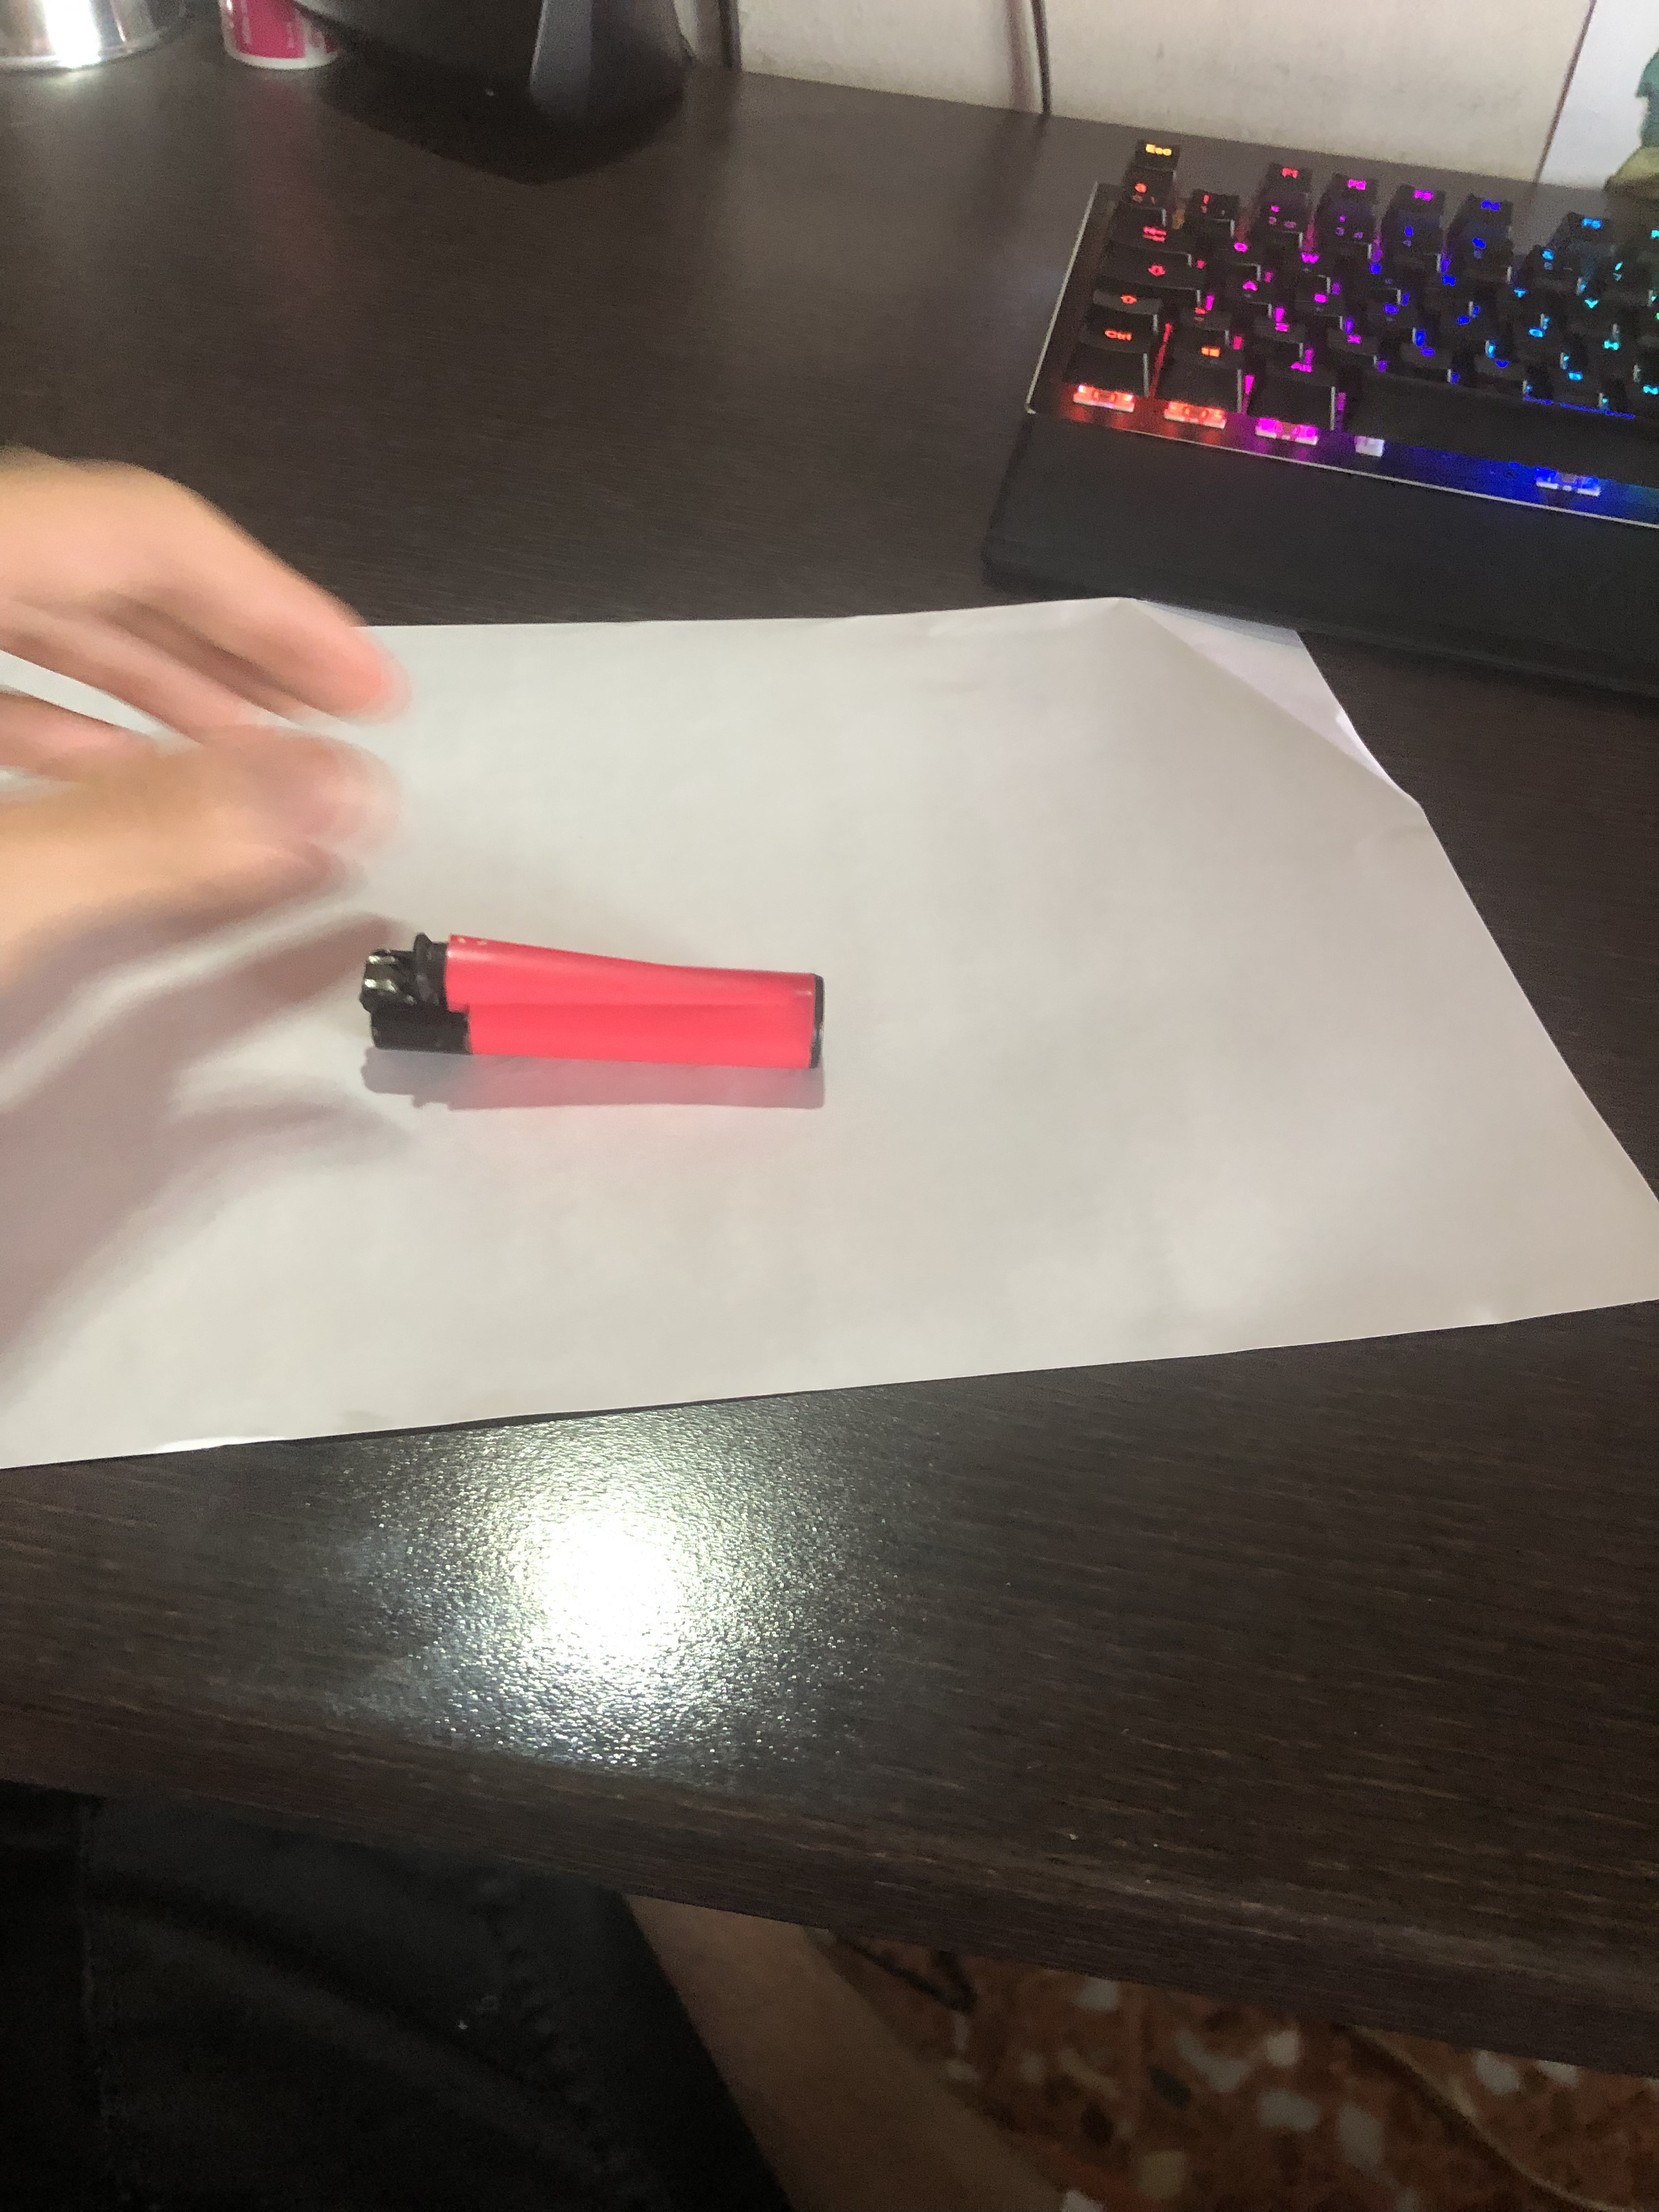Mechero: (312, 907, 875, 1089)
